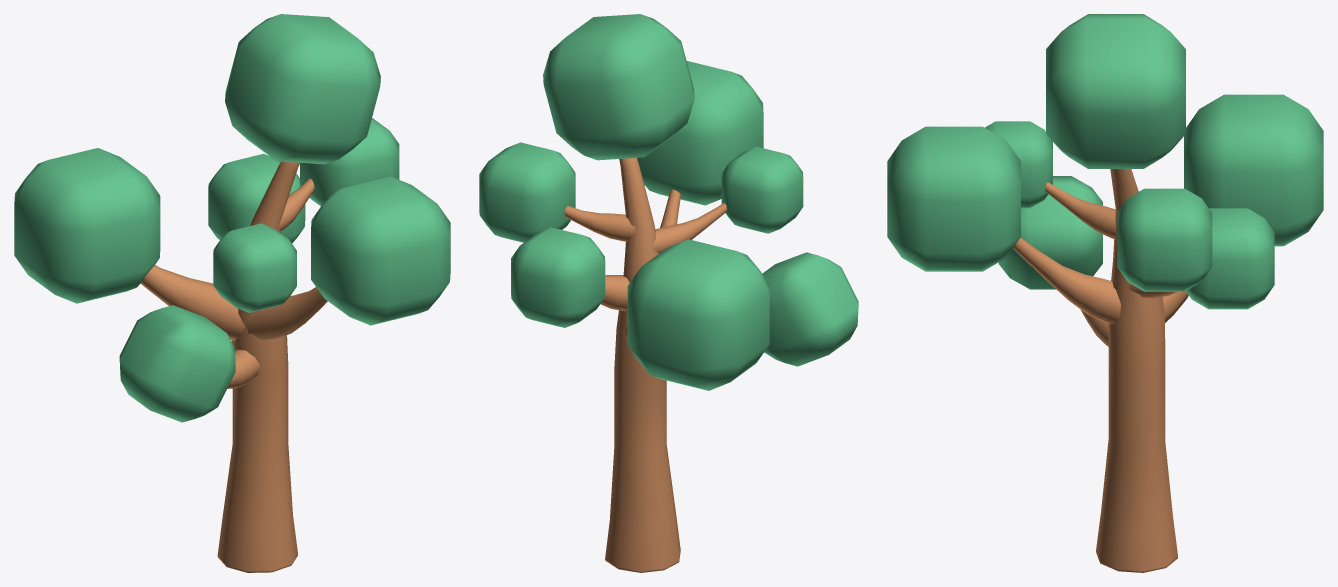
Rendered from Tree.fbx.
The picture shows the model from 3 angles, left to right: view 1: azimuth 30°, elevation 25°; view 2: azimuth 150°, elevation 25°; view 3: azimuth 270°, elevation 25°; orthographic projection. The views are drawn at different scales.
Visible parts, largest first — view 1: Tree; view 2: Tree; view 3: Tree.
Part boxes in pixels (bbox=[...]): Tree: bbox=[14, 14, 450, 572]; Tree: bbox=[479, 14, 858, 572]; Tree: bbox=[887, 14, 1323, 572].
Size of the model in its own units: 6.22 by 9.99 by 7.17.
1 material, 1 textured.
